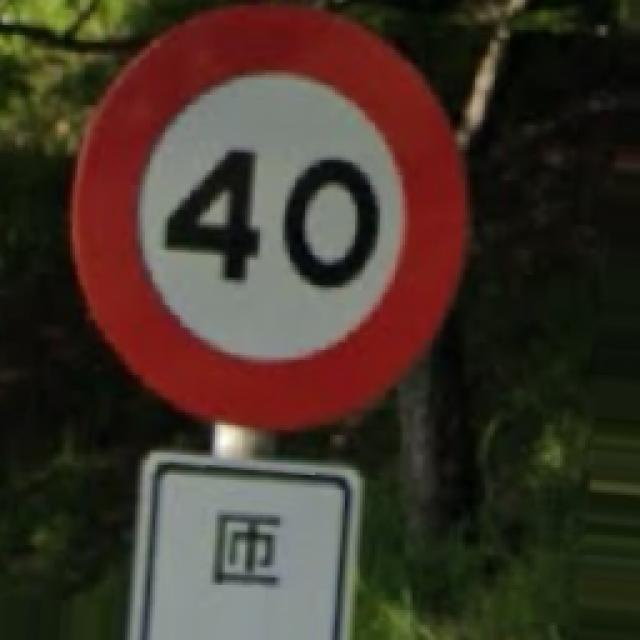Speed Limit -40-: (72, 5, 465, 428)
